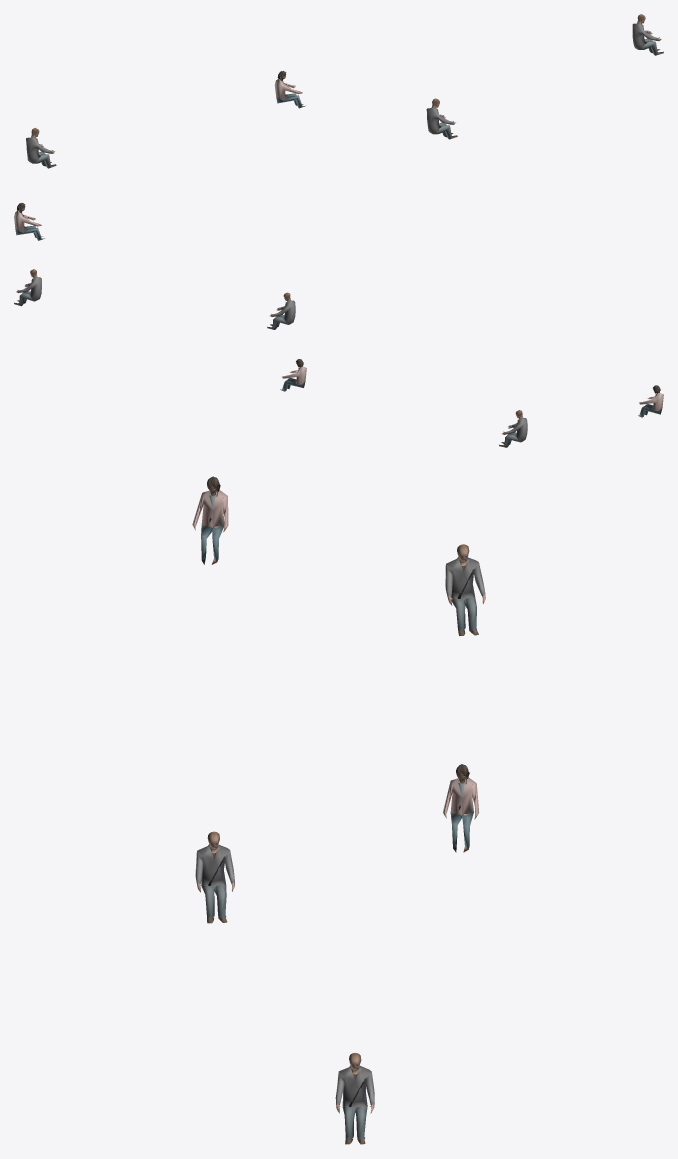
The model's file is cruiser-occupants.glb.
3 views of the same model, one above another, from view 1: azimuth 30°, elevation 25°; view 2: azimuth 150°, elevation 25°; view 3: azimuth 270°, elevation 25° (orthographic). The views are drawn at different scales.
Visible parts, largest first — view 1: Cruiser occupants; view 2: Cruiser occupants; view 3: Cruiser occupants.
Boxes of the visible parts, left/top/right/bottom form: Cruiser occupants: left=14, top=14, right=663, bottom=240; Cruiser occupants: left=14, top=269, right=663, bottom=447; Cruiser occupants: left=192, top=476, right=485, bottom=1144.
Bounding box in the file's own units: 20.71 × 1.36 × 4.31.
